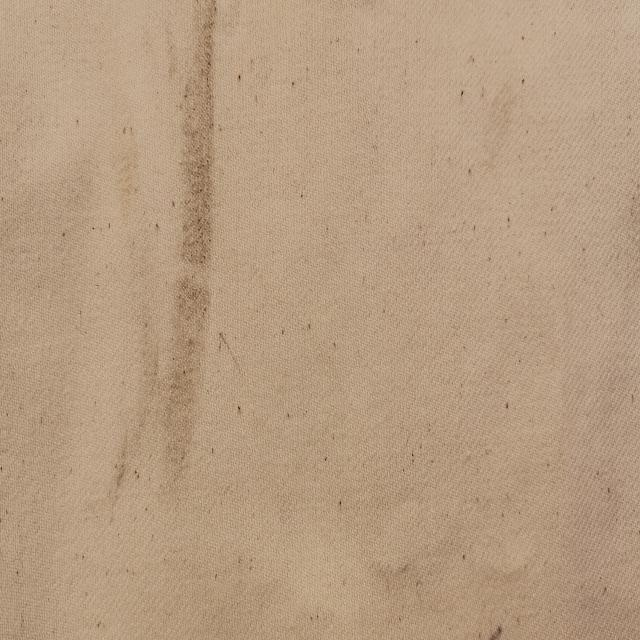taaaches: (86, 0, 246, 547), (455, 612, 506, 640)
